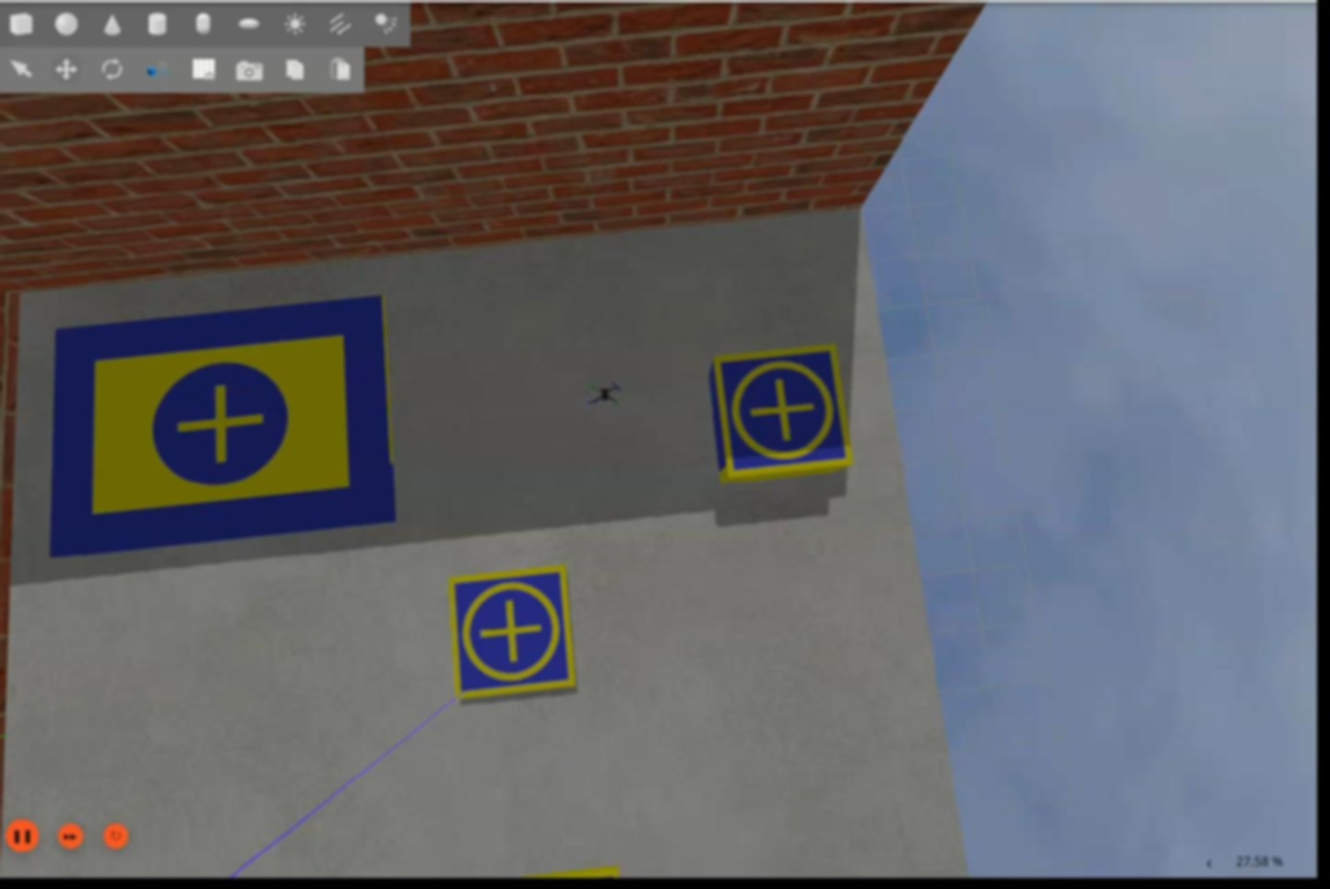large_base: (48, 295, 398, 562)
small_base: (710, 343, 851, 480), (447, 564, 579, 701)
